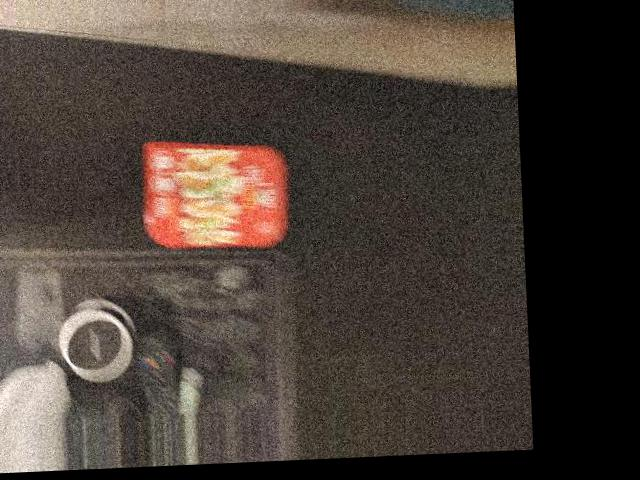cheese: (134, 128, 295, 264)
